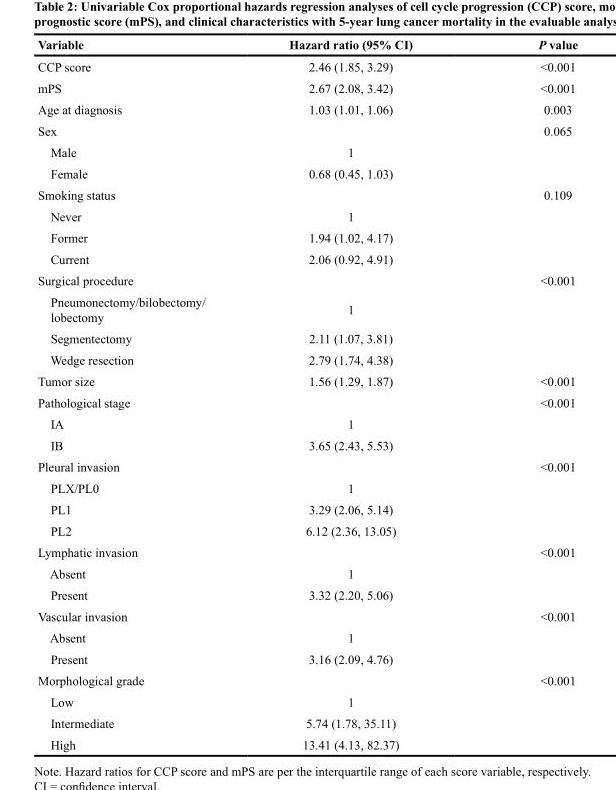table: (37, 36, 577, 751)
table column: (246, 36, 474, 751), (37, 36, 246, 751), (474, 36, 577, 751)
table column header: (37, 36, 577, 55)
table row: (37, 290, 577, 327), (37, 76, 577, 98), (37, 119, 577, 141), (37, 183, 577, 205), (37, 226, 577, 248), (37, 348, 577, 370), (37, 412, 577, 434), (37, 476, 577, 498), (37, 519, 577, 541), (37, 583, 577, 605), (37, 626, 577, 648), (37, 690, 577, 712), (37, 55, 577, 76), (37, 98, 577, 119), (37, 141, 577, 162), (37, 162, 577, 183), (37, 205, 577, 226), (37, 248, 577, 269), (37, 269, 577, 290), (37, 327, 577, 348), (37, 370, 577, 391), (37, 391, 577, 412), (37, 434, 577, 455), (37, 455, 577, 476), (37, 498, 577, 519), (37, 541, 577, 562), (37, 562, 577, 583), (37, 605, 577, 626), (37, 648, 577, 669), (37, 669, 577, 690), (37, 712, 577, 733), (37, 36, 577, 55), (37, 733, 577, 751)
